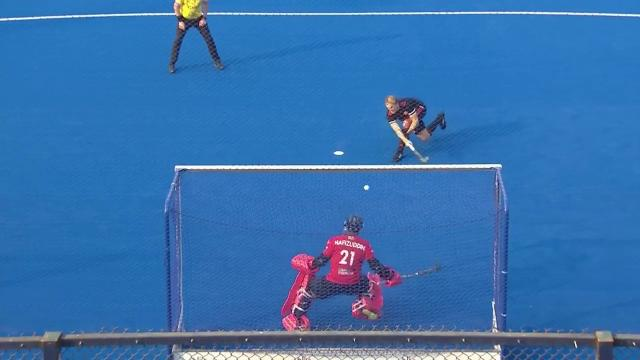ball: (362, 180, 372, 194)
